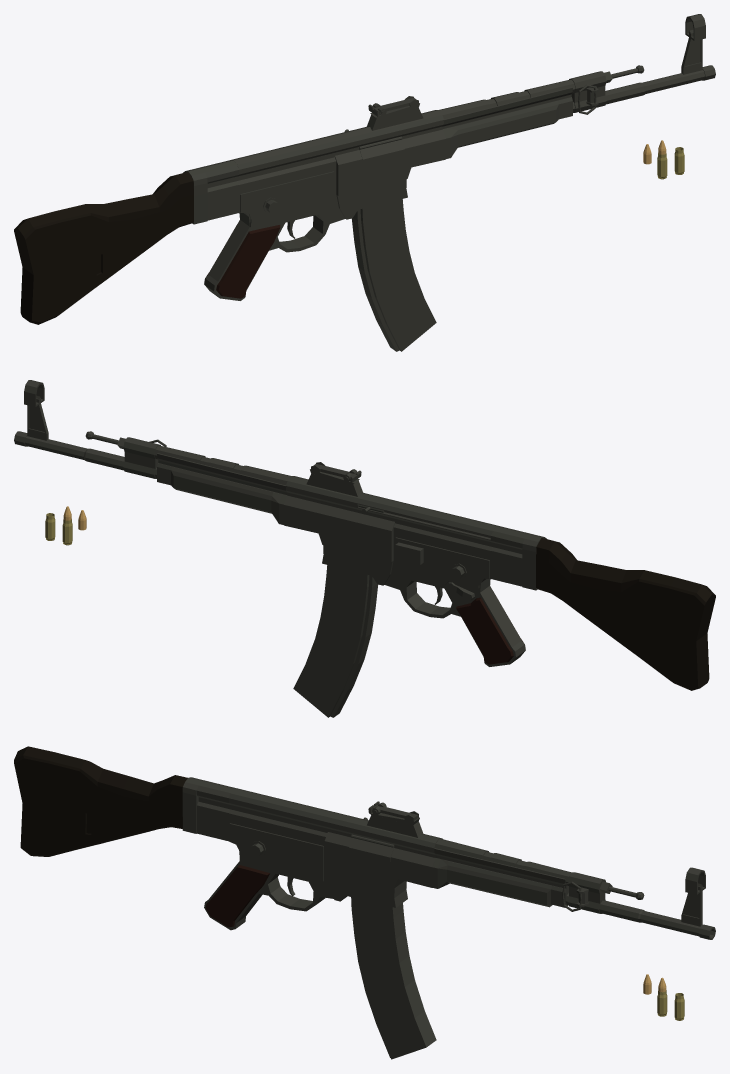
File: STG44LP.fbx
The picture shows the model from 3 angles, top to bottom: view 1: azimuth 30°, elevation 25°; view 2: azimuth 150°, elevation 25°; view 3: azimuth 330°, elevation 25°; orthographic projection.
Parts seen in each view (by area): view 1: STG 44, STG 44 Maganize; view 2: STG 44, STG 44 Maganize; view 3: STG 44, STG 44 Maganize.
Part boxes in pixels (bbox=[...]): STG 44: bbox=[14, 14, 715, 324]; STG 44 Maganize: bbox=[352, 199, 436, 351]; STG 44: bbox=[14, 380, 715, 690]; STG 44 Maganize: bbox=[293, 565, 377, 717]; STG 44: bbox=[14, 746, 715, 939]; STG 44 Maganize: bbox=[351, 897, 436, 1059].
Size of the model in its own units: 94.05 by 33.7 by 4.4.
